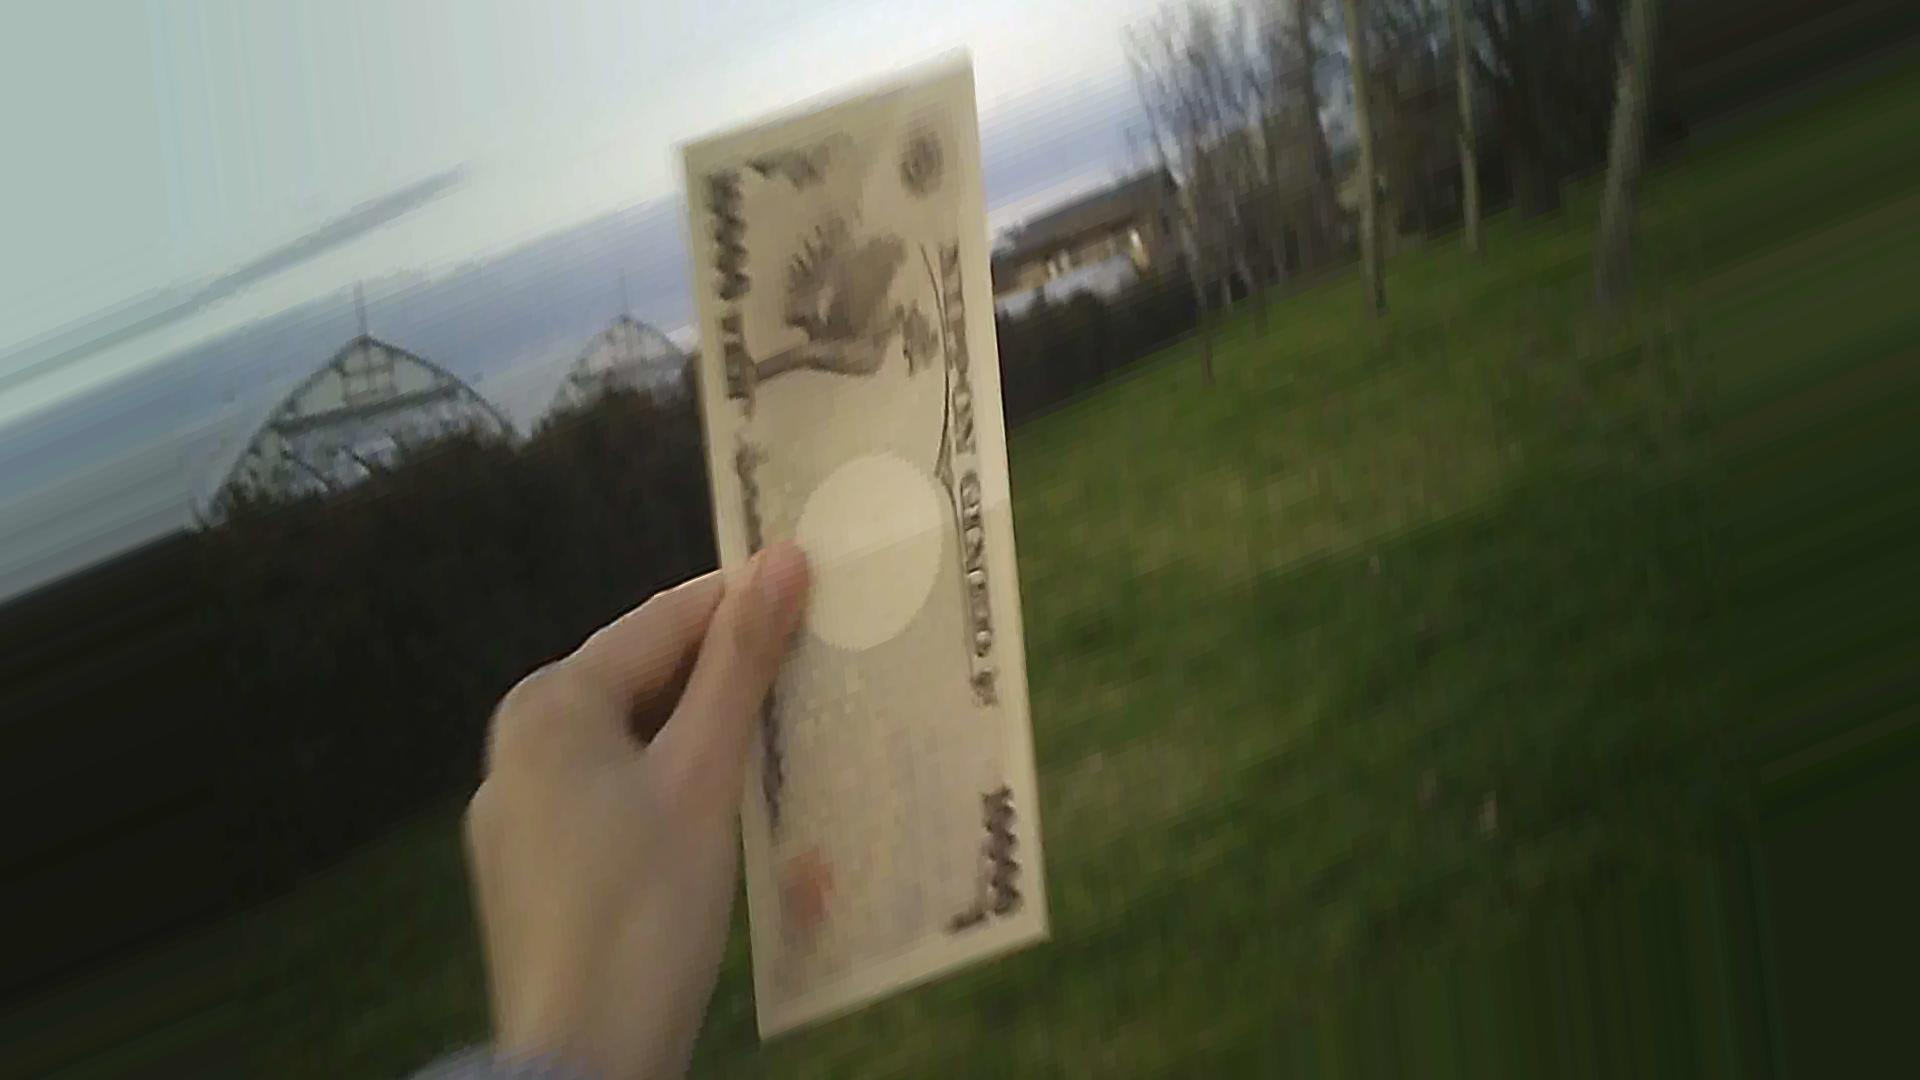10,000 Yen: (663, 57, 1069, 1000)
